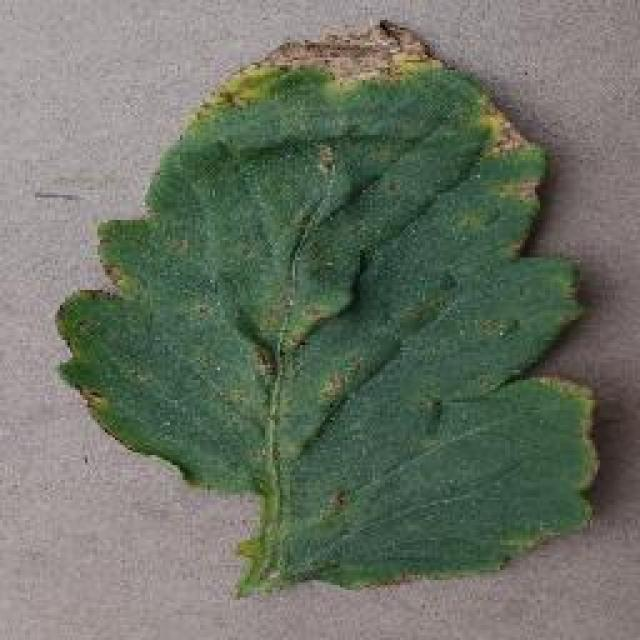Tomato bacterial spot leaf: (53, 20, 607, 595)
